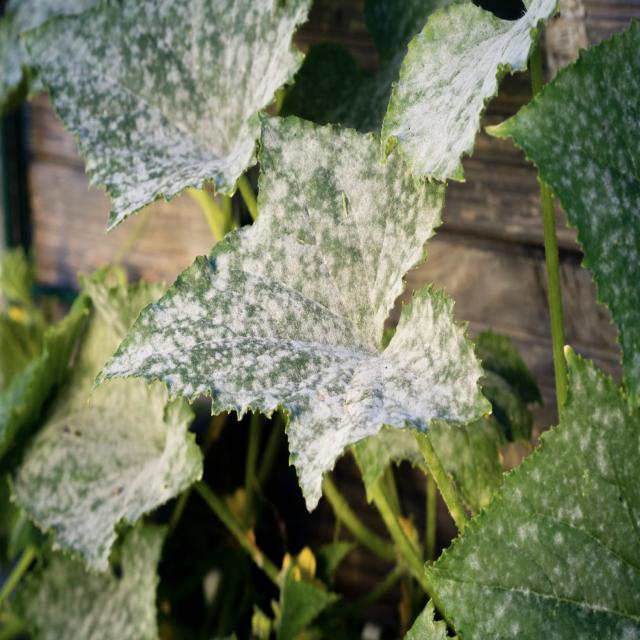Powdery Mildew: (88, 110, 493, 512), (8, 261, 204, 575)
